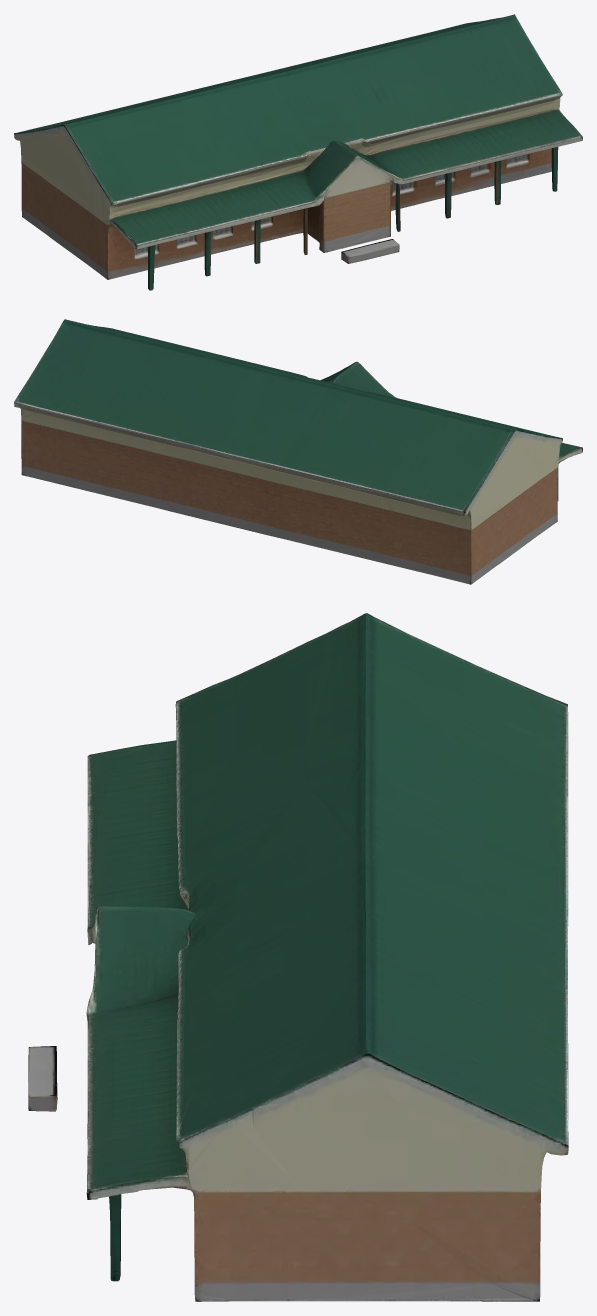
Rendered from lm_school.glb.
The picture shows the model from 3 angles, top to bottom: view 1: azimuth 30°, elevation 25°; view 2: azimuth 150°, elevation 25°; view 3: azimuth 270°, elevation 25°; orthographic projection. The views are drawn at different scales.
Parts seen in each view (by area): view 1: geometry_0; view 2: geometry_0; view 3: geometry_0.
Part boxes in pixels (<box>): geometry_0: <box>14,14,582,290</box>; geometry_0: <box>14,319,582,584</box>; geometry_0: <box>28,613,568,1301</box>.
Size of the model in its own units: 0.9995 by 0.2695 by 0.5183.
Materials: 1 (1 with a texture image).
